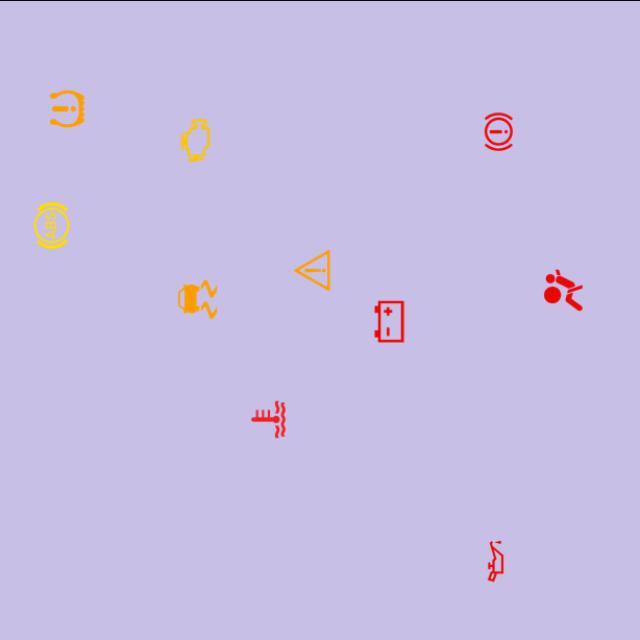Anti Lock Braking System: (26, 199, 77, 250)
Braking System Issue: (474, 106, 524, 156)
Charging System Issue: (364, 295, 415, 346)
Check Engine: (170, 114, 221, 164)
Electronic Stability Problem -ESP-: (172, 273, 223, 324)
Engine Overheating Warning Light: (243, 393, 294, 444)
Low Engine Oil Warning Light: (470, 535, 521, 586)
Low Tire Pressure Warning Light: (42, 82, 92, 134)
Master warning light: (286, 244, 338, 295)
SRS-Airbag: (538, 264, 589, 315)
